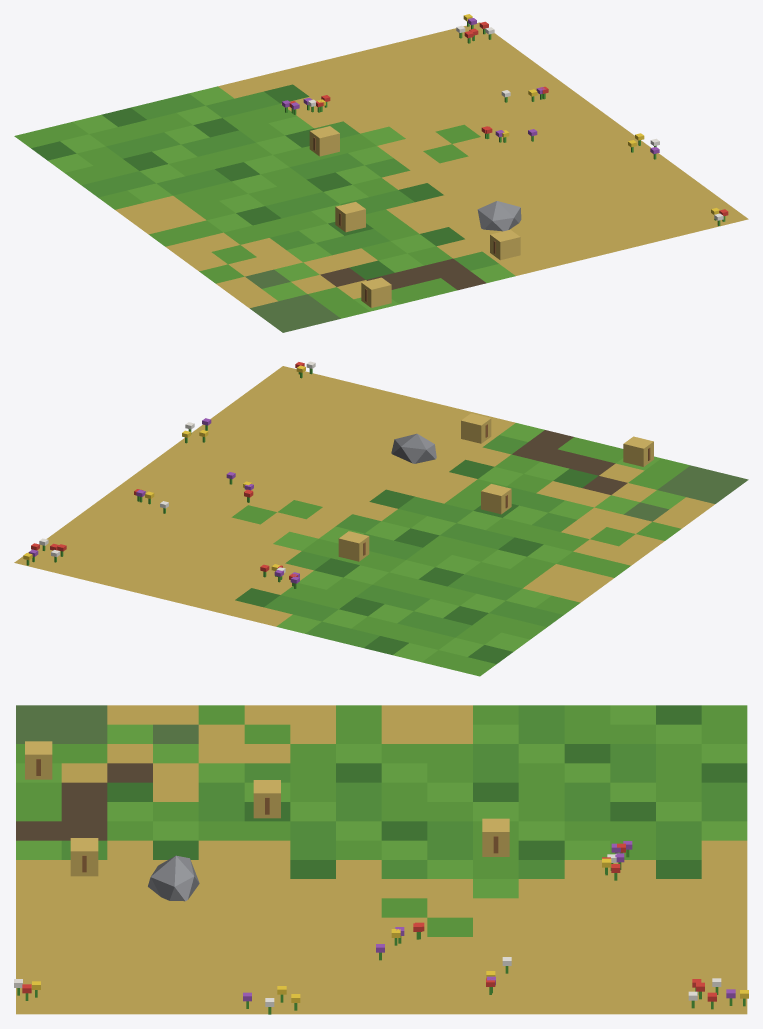
File: chunk_0_13.glb
3 views of the same model, one above another, from view 1: azimuth 30°, elevation 25°; view 2: azimuth 150°, elevation 25°; view 3: azimuth 270°, elevation 25° (orthographic). The views are drawn at different scales.
Visible parts, largest first — view 1: chunk_0_13; view 2: chunk_0_13; view 3: chunk_0_13.
Boxes of the visible parts, x1,y1,x2,y2 form: chunk_0_13: (14,14,748,332); chunk_0_13: (14,361,748,676); chunk_0_13: (14,705,748,1014).
Bounding box in the file's own units: 16.09 × 1.12 × 16.08.
